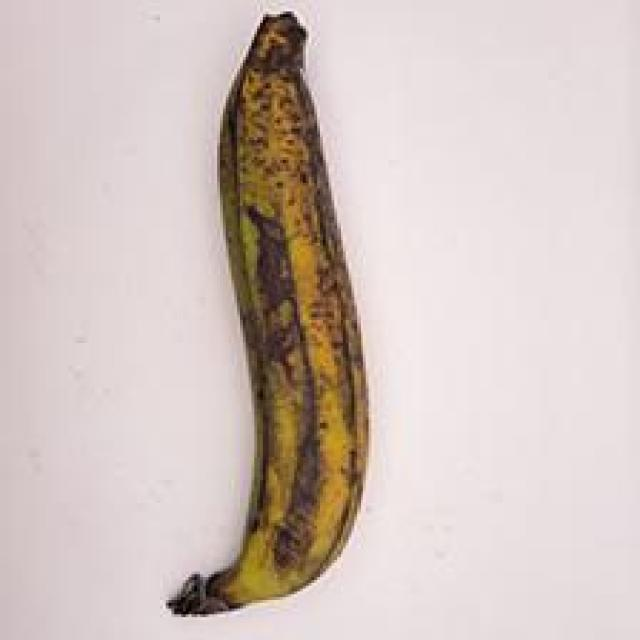Overripe: (139, 1, 417, 626)
